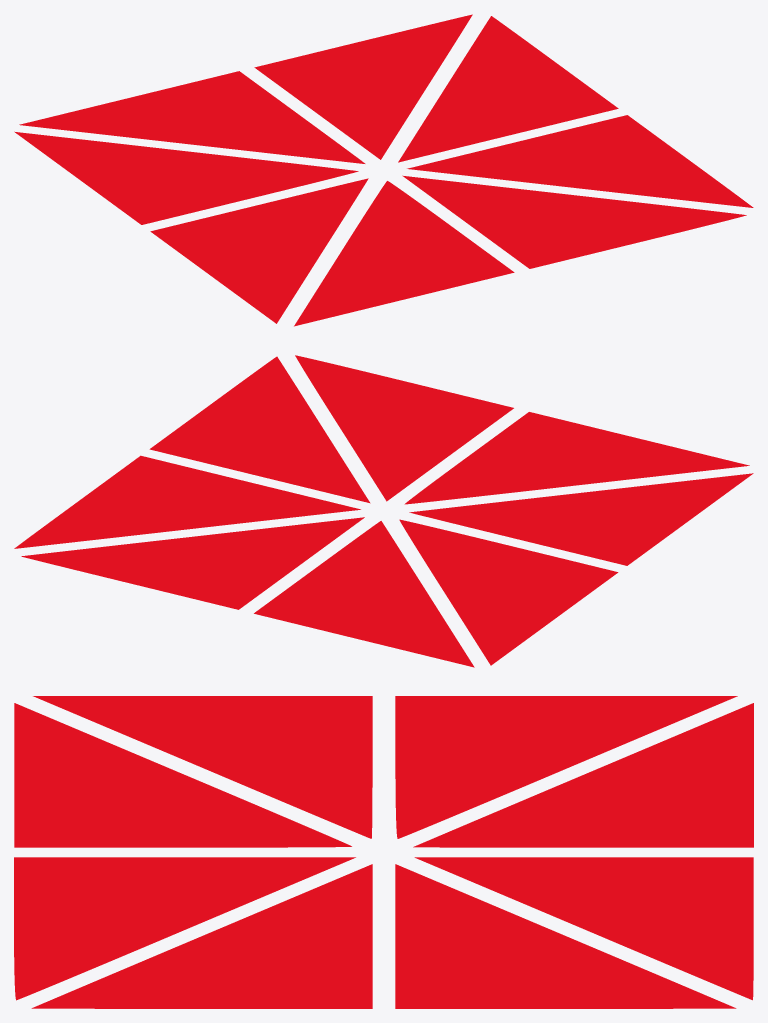
File: chapman.glb
The picture shows the model from 3 angles, top to bottom: view 1: azimuth 30°, elevation 25°; view 2: azimuth 150°, elevation 25°; view 3: azimuth 270°, elevation 25°; orthographic projection. The views are drawn at different scales.
Parts seen in each view (by area): view 1: Curve, Curve.005, Curve.006, Curve.002, Curve.003, Curve.007, Curve.001, Curve.004; view 2: Curve.003, Curve.007, Curve.005, Curve, Curve.002, Curve.006, Curve.001, Curve.004; view 3: Curve.007, Curve, Curve.003, Curve.005, Curve.006, Curve.002, Curve.001, Curve.004.
Boxes of the visible parts, x1,y1,x2,y2 form: Curve: [19, 71, 365, 163]; Curve.005: [407, 115, 753, 207]; Curve.006: [402, 175, 746, 268]; Curve.002: [14, 131, 358, 224]; Curve.003: [398, 16, 618, 162]; Curve.007: [294, 181, 514, 326]; Curve.001: [254, 14, 472, 159]; Curve.004: [150, 178, 368, 323]; Curve.003: [14, 455, 360, 548]; Curve.007: [404, 412, 749, 504]; Curve.005: [149, 356, 370, 503]; Curve: [254, 521, 474, 667]; Curve.002: [399, 519, 618, 665]; Curve.006: [295, 355, 513, 501]; Curve.001: [21, 517, 364, 609]; Curve.004: [409, 473, 753, 565]; Curve.007: [14, 703, 351, 847]; Curve: [413, 703, 753, 847]; Curve.003: [395, 864, 736, 1008]; Curve.005: [31, 864, 372, 1008]; Curve.006: [14, 857, 355, 1000]; Curve.002: [395, 696, 737, 838]; Curve.001: [414, 857, 753, 1000]; Curve.004: [33, 696, 372, 838].
Bounding box in the file's own units: 0.0321 × 0 × 0.0321.
